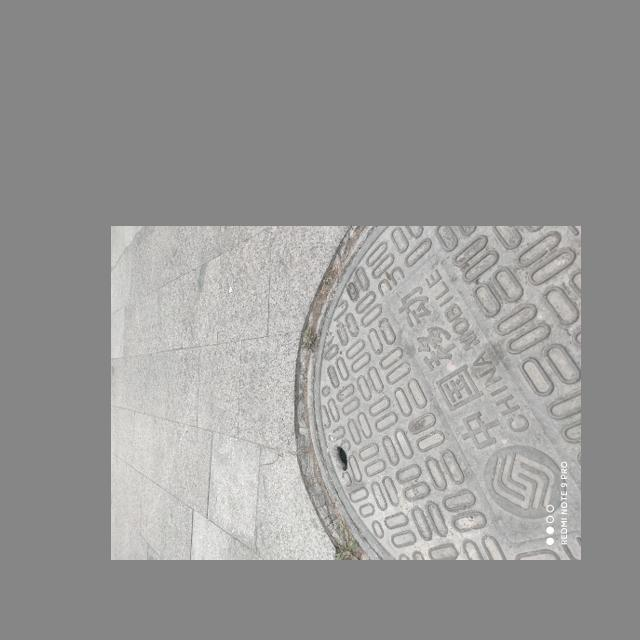good: (296, 226, 581, 560)
